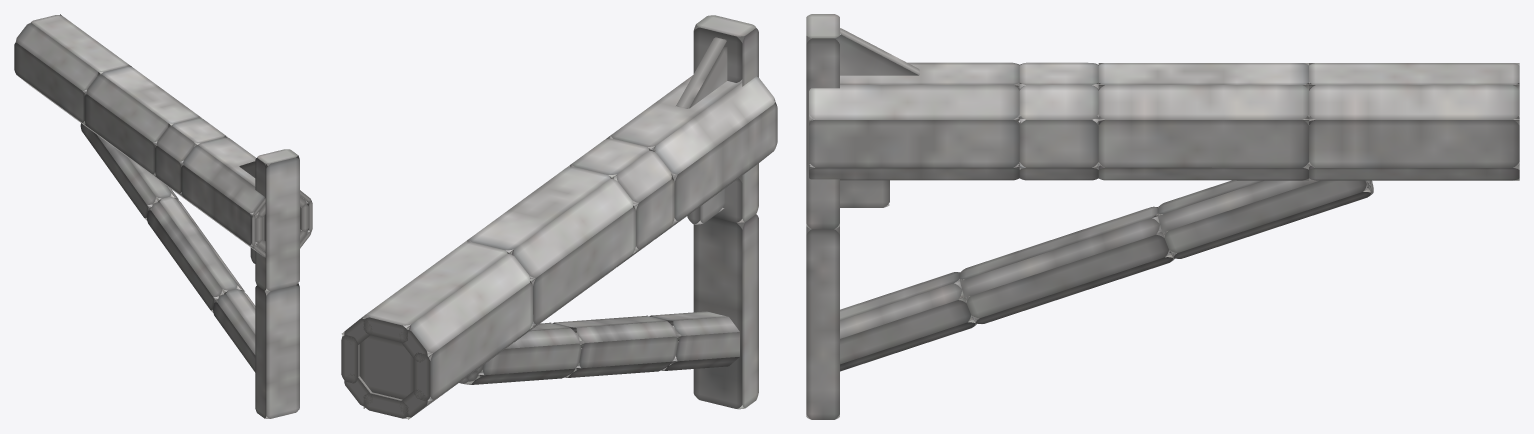
Rendered from overhead_pillar_concrete_truss_a.obj.
The picture shows the model from 3 angles, left to right: view 1: azimuth 30°, elevation 25°; view 2: azimuth 150°, elevation 25°; view 3: azimuth 270°, elevation 25°; orthographic projection. The views are drawn at different scales.
Visible parts, largest first — view 1: bottom_central; view 2: bottom_central; view 3: bottom_central.
Part boxes in pixels (x1,y1,x2,y2): bottom_central: [14, 14, 312, 418]; bottom_central: [341, 15, 777, 419]; bottom_central: [806, 14, 1519, 419].
Bounding box in the file's own units: 0.5002 × 2 × 3.39.
